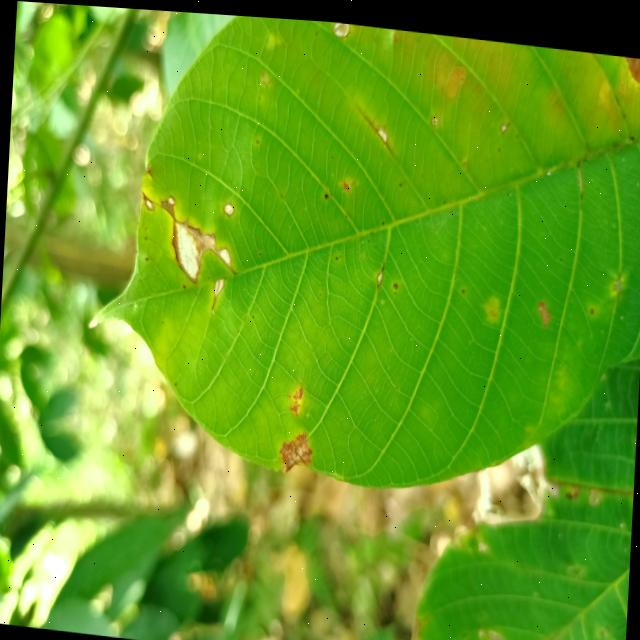Colletotrichum: (392, 278, 397, 284), (323, 189, 328, 195), (588, 300, 592, 306), (460, 283, 464, 287), (380, 216, 384, 220), (334, 252, 338, 256), (144, 256, 148, 260), (398, 178, 401, 182), (182, 283, 185, 287)
Corynespora: (352, 98, 394, 150), (375, 258, 383, 284)
Leaf-Blight: (170, 216, 232, 283), (278, 425, 312, 471), (212, 275, 224, 299), (222, 201, 234, 214)
